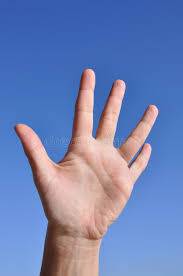palm: (12, 64, 161, 244)
